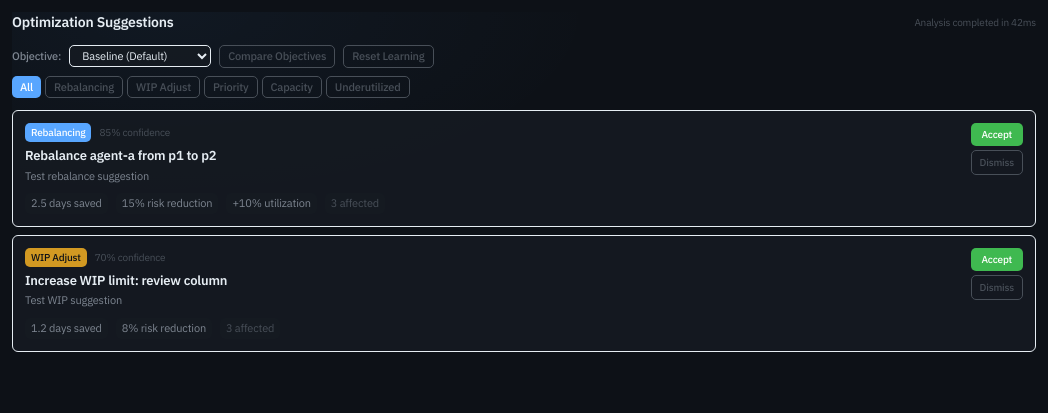
Test case: OptimizationPanel — objective & comparison › shows comparison panel when Compare Objectives clicked
The width and height of the screenshot is (1048, 413).
Expected: the heading "Rebalance agent-a from p1 to p2" is shown, [25, 147, 216, 164]
Click the button with aria-label "Compare all objectives": (277, 56) [219, 45, 335, 68]
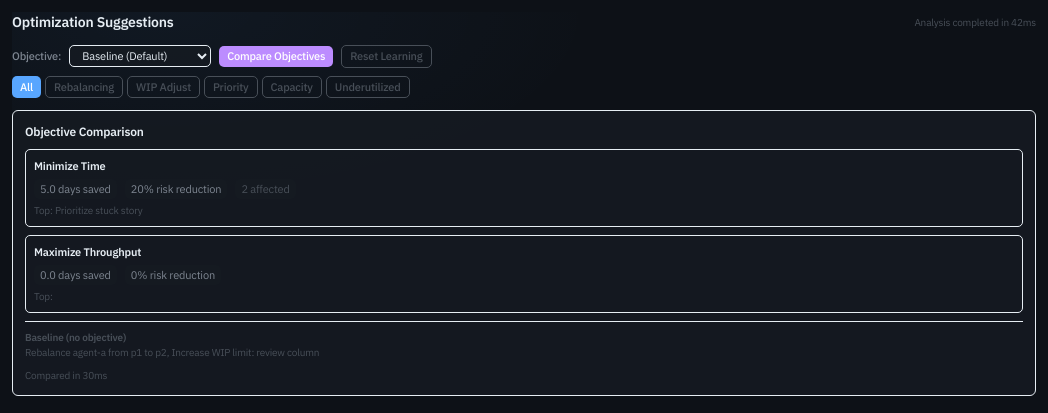
Expected: the heading "Objective Comparison" is shown, [25, 124, 144, 139]
